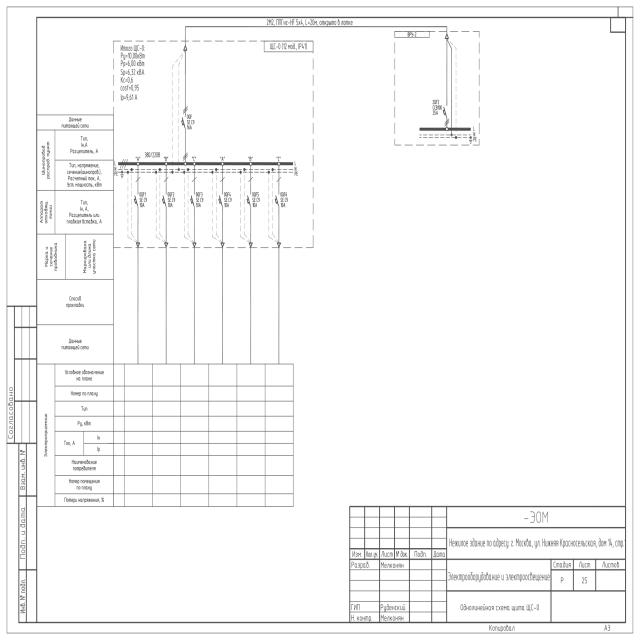-: (269, 42, 308, 52), (251, 198, 261, 210), (195, 197, 205, 209), (223, 197, 233, 209), (167, 197, 177, 209), (186, 118, 195, 130), (139, 196, 148, 208), (280, 197, 289, 209)
QF: (274, 176, 282, 208), (161, 176, 169, 208), (133, 176, 141, 208), (246, 176, 254, 208), (190, 177, 197, 209), (218, 176, 225, 208), (181, 105, 188, 131)
